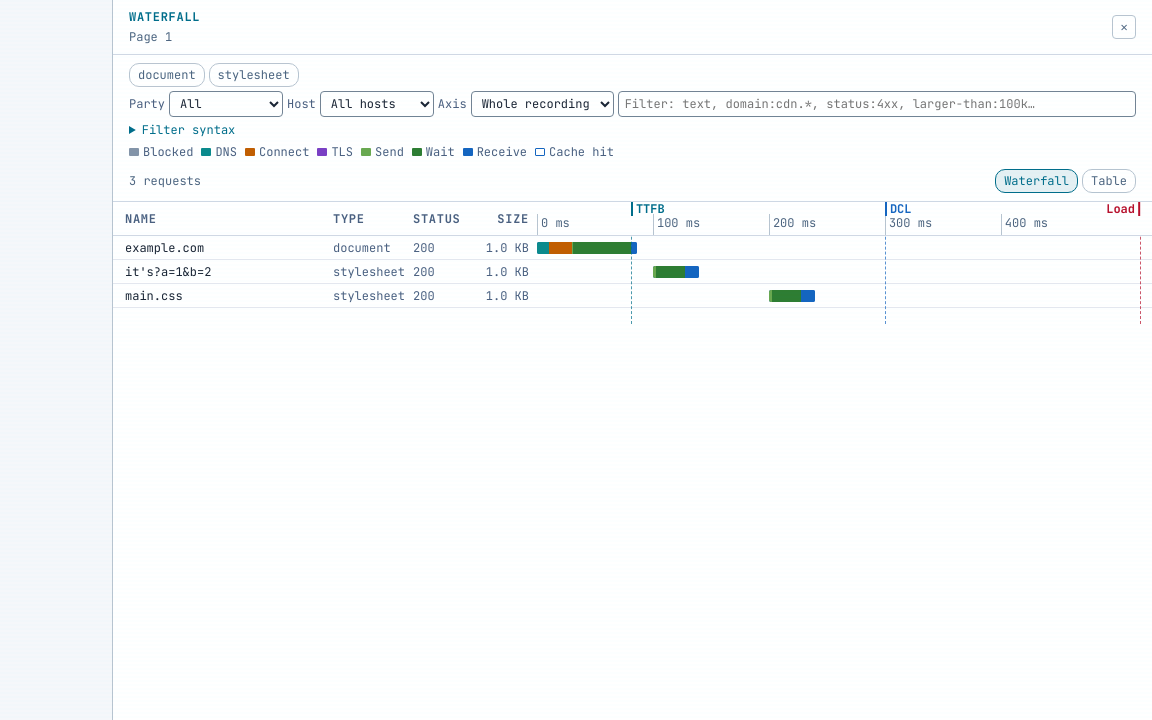
Test: WaterfallPanel: copying a request › selects a row to show its actions, and a second click hides them
Click the button "main.css stylesheet 200 1.0 KB" at (154, 296), box [113,284,1151,308]
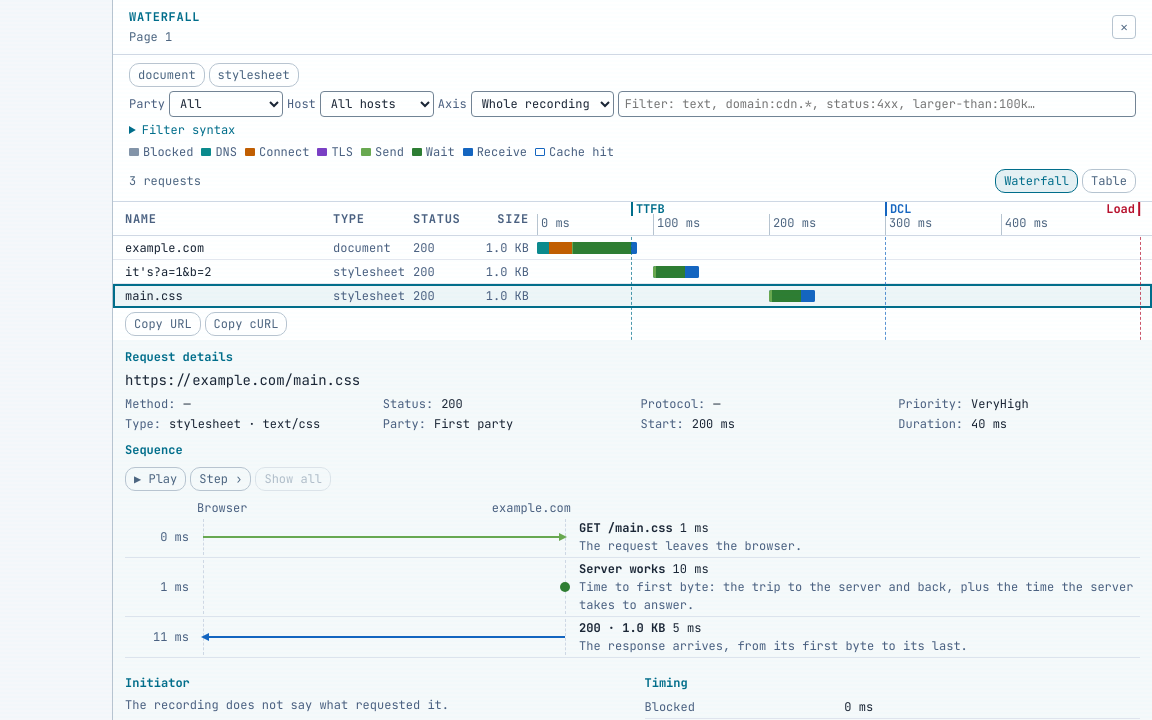
Expected: the button "main.css stylesheet 200 1.0 KB" is expanded
Expected: the button "Copy URL" is shown, [125,312,201,336]
Click the button "main.css stylesheet 200 1.0 KB" at (154, 296), box [113,284,1151,308]
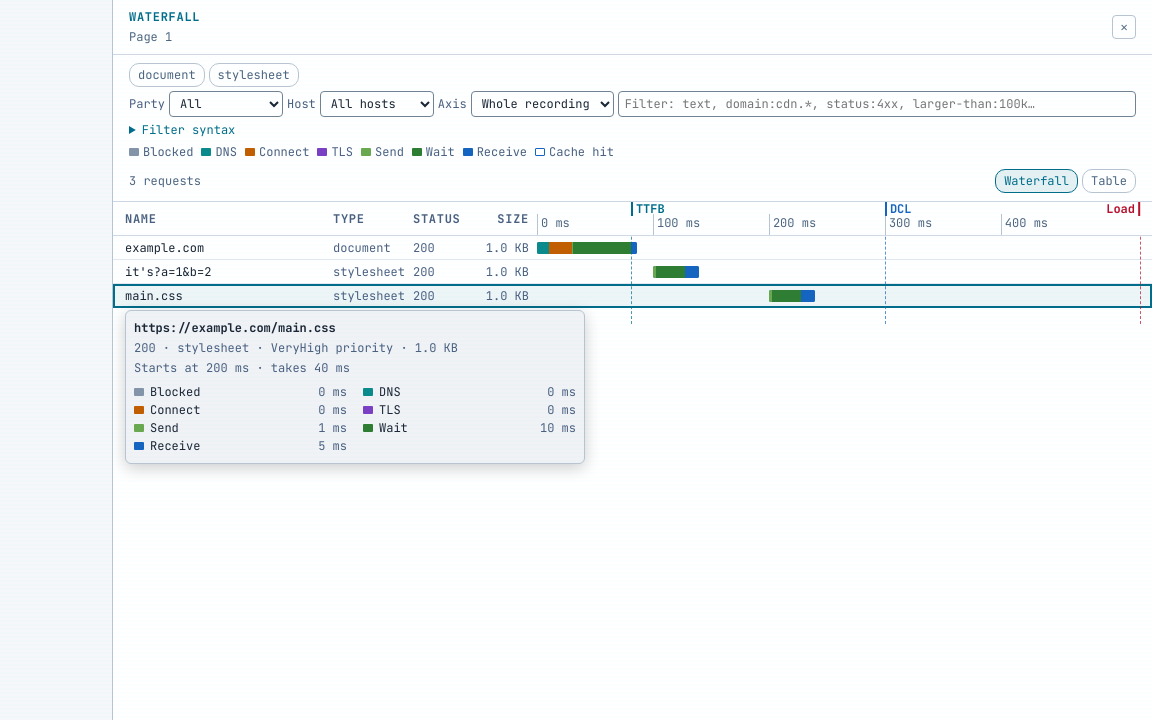
Expected: the button "main.css stylesheet 200 1.0 KB" is collapsed, [113,284,1151,308]
Expected: the button "Copy URL" is gone
